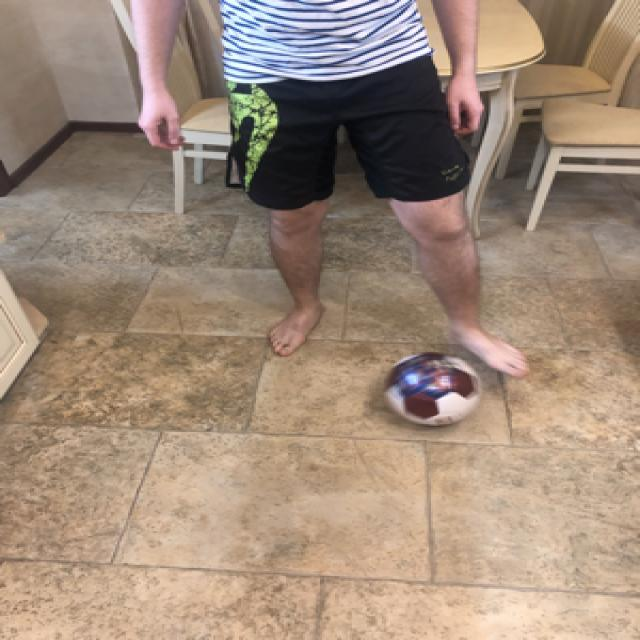soccer_ball: (380, 349, 484, 427)
